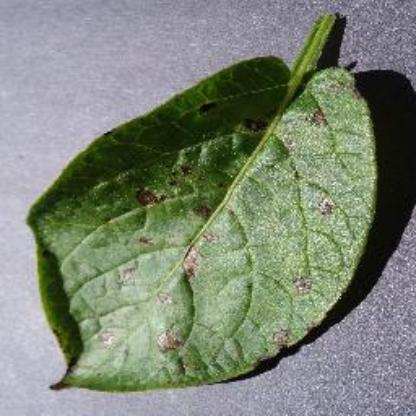Early-Blight: (28, 20, 388, 398)
